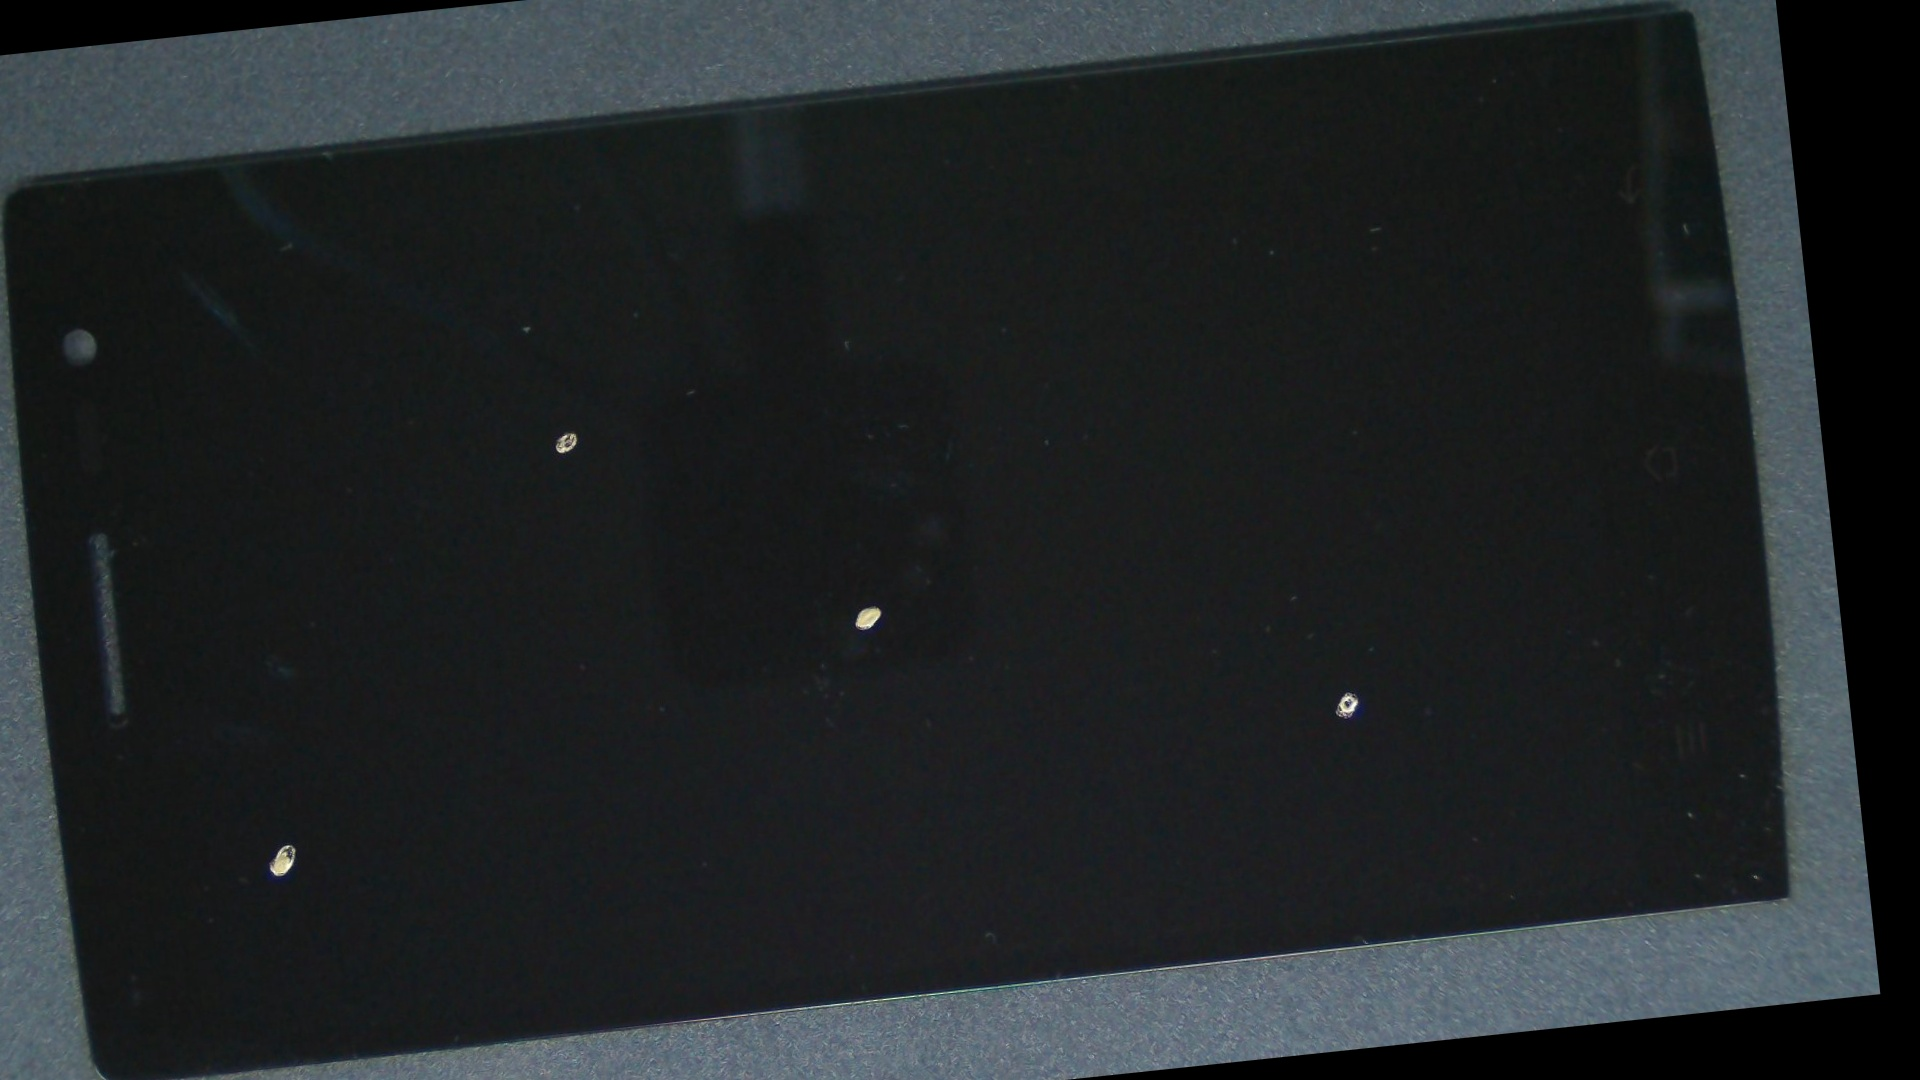oil: (605, 255, 1880, 1080), (368, 239, 1375, 973), (215, 182, 915, 682), (76, 421, 491, 1080)
